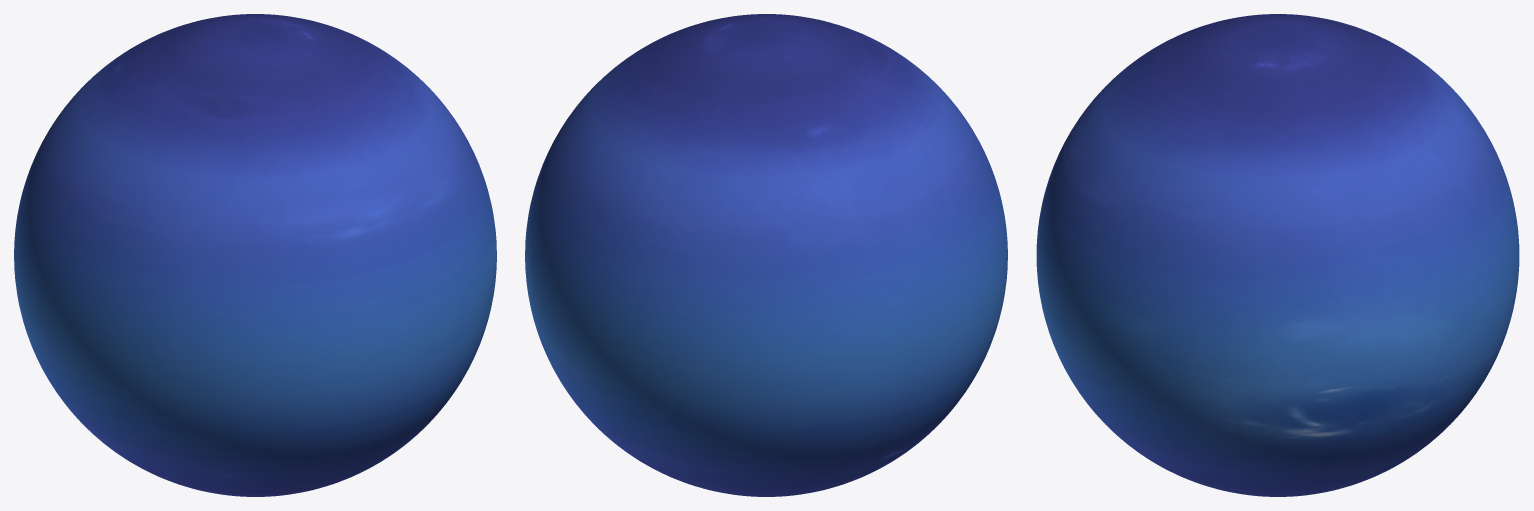
The model's file is neptune-real-8k.glb.
The picture shows the model from 3 angles, left to right: view 1: azimuth 30°, elevation 25°; view 2: azimuth 150°, elevation 25°; view 3: azimuth 270°, elevation 25°; orthographic projection.
Visible parts, largest first — view 1: Sphere.001; view 2: Sphere.001; view 3: Sphere.001.
Part boxes in pixels (x1,y1,x2,y2): Sphere.001: (14,14,496,496); Sphere.001: (525,14,1007,496); Sphere.001: (1036,14,1519,496).
Bounding box in the file's own units: 0.6902 × 0.6902 × 0.6902.
Materials: 1 (1 with a texture image).
